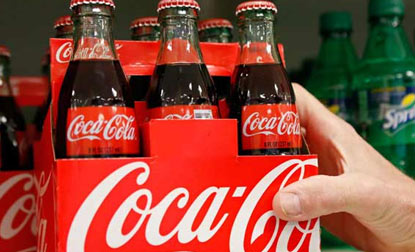Coca-Cola: (230, 6, 314, 177), (62, 6, 139, 171)
